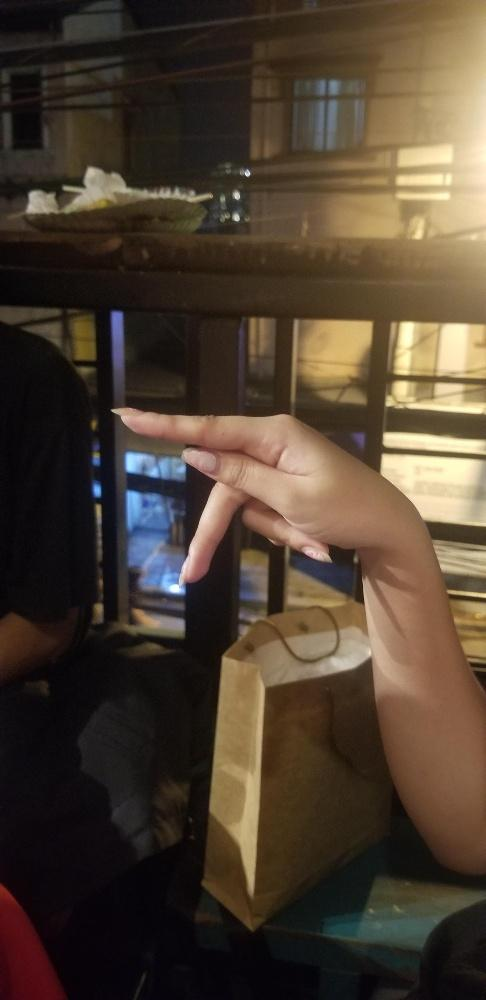p: (107, 401, 403, 588)
